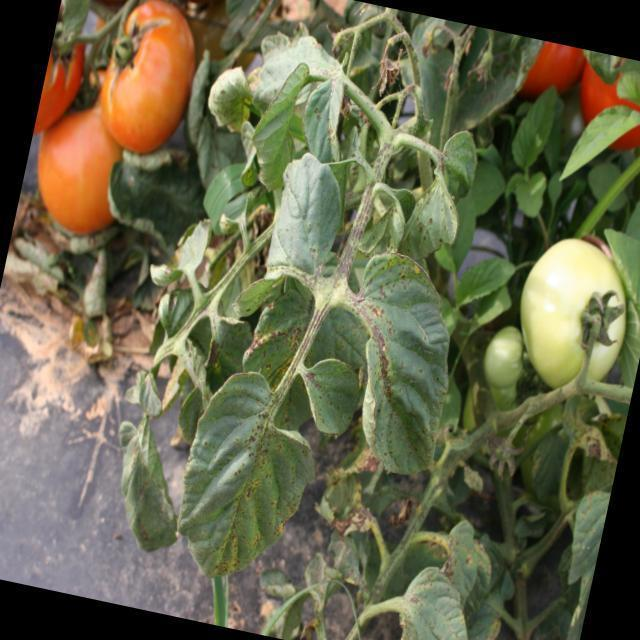Bacterial Spot: (324, 245, 481, 479), (158, 375, 327, 592), (216, 254, 320, 396), (397, 125, 488, 266), (262, 143, 358, 274), (377, 559, 488, 640), (285, 352, 364, 440)
